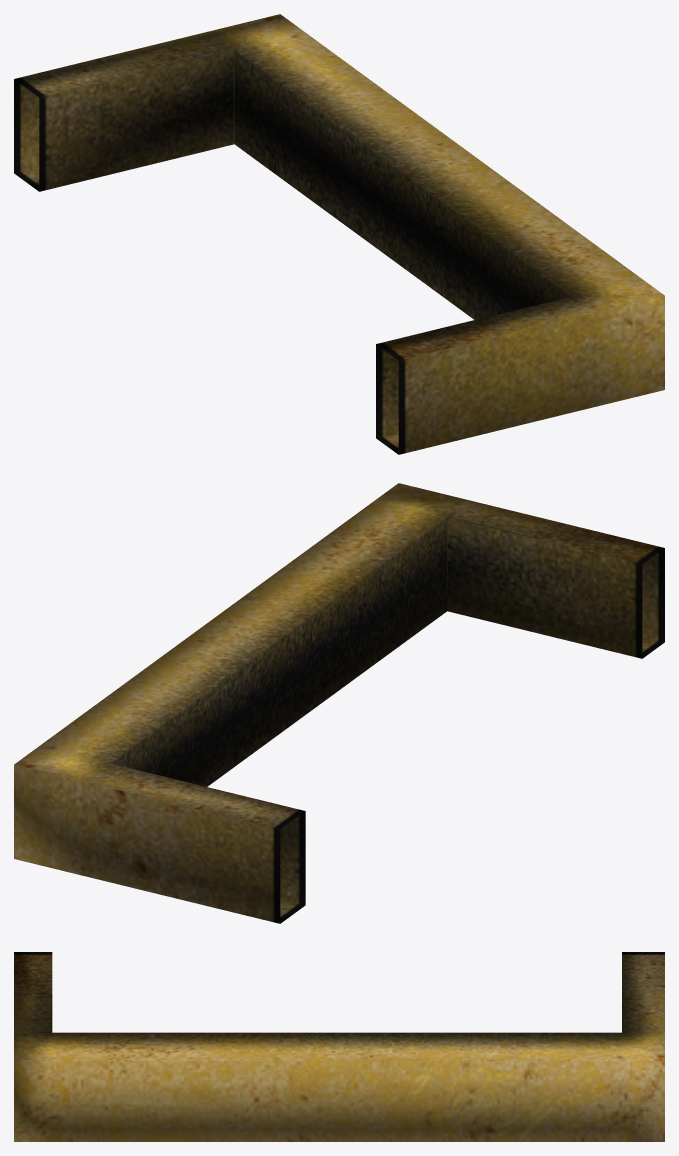
File: DrawerHandle.fbx
3 renders of one model, top to bottom at view 1: azimuth 30°, elevation 25°; view 2: azimuth 150°, elevation 25°; view 3: azimuth 270°, elevation 25°, orthographic. The views are drawn at different scales.
Visible parts, largest first — view 1: polySurface221; view 2: polySurface221; view 3: polySurface221.
Part boxes in pixels (x1,y1,x2,y2): polySurface221: (14,14,664,454); polySurface221: (14,483,664,923); polySurface221: (14,952,664,1141).
Bounding box in the file's own units: 0.3854 × 0.1304 × 0.9644.
